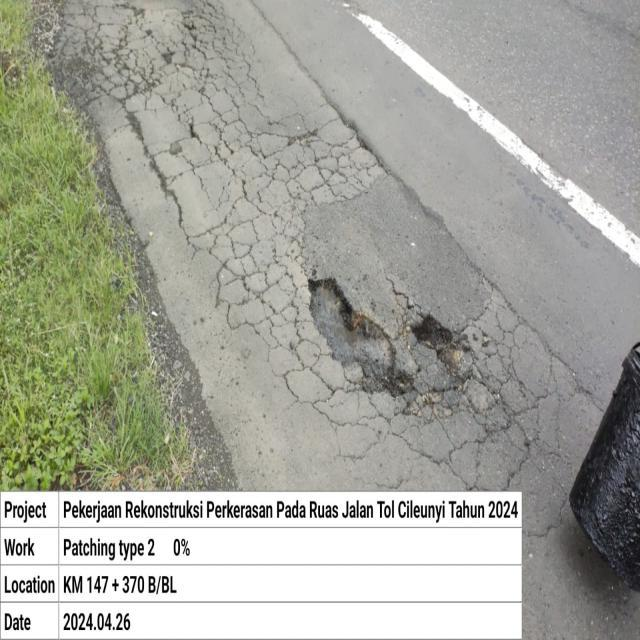Buraco: (305, 275, 418, 400), (408, 311, 477, 380)
